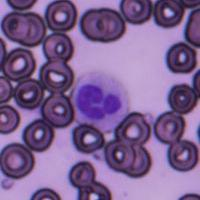N: (71, 70, 130, 131)
